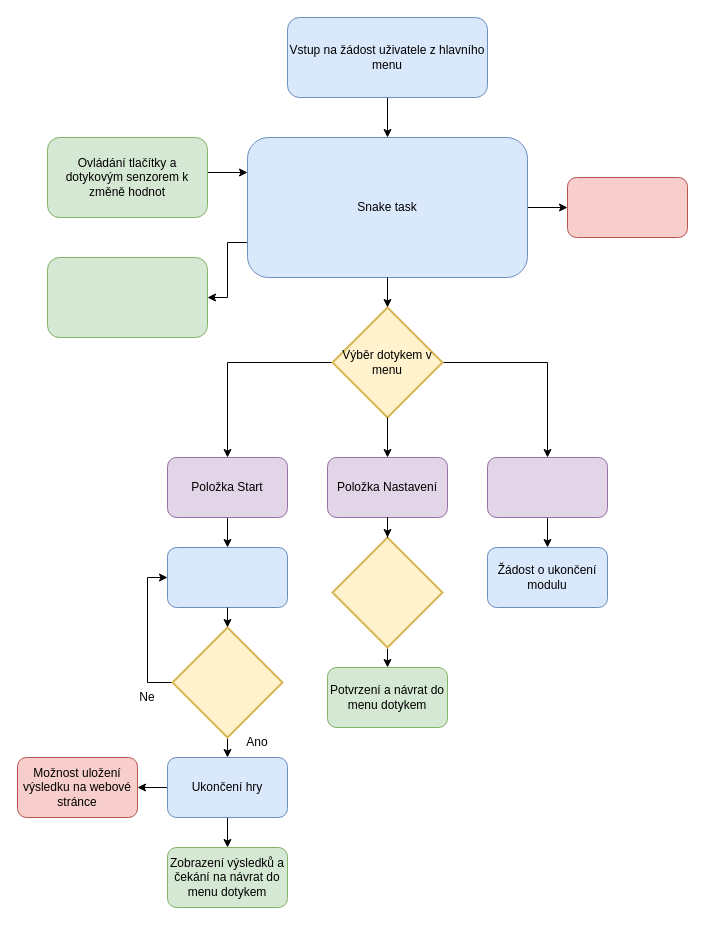
The diagram is 705 pixels wide and 925 high, and some of its shapes have lost their labels. Each missing label, with the centre of its shape:
Aktualizace údajů na OLED displeji: the point at 127,297
Hra: the point at 227,577
Náraz do sebe nebo stěny: the point at 227,682
Položka Konec: the point at 547,487
Výběr obtížnosti: the point at 387,592
Webová stránka s tabulkou výsledků: the point at 627,207
